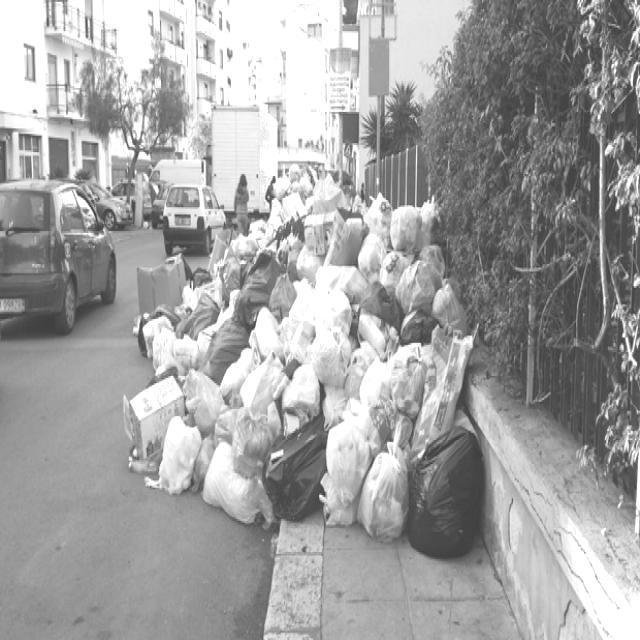high trash: (124, 176, 484, 558)
